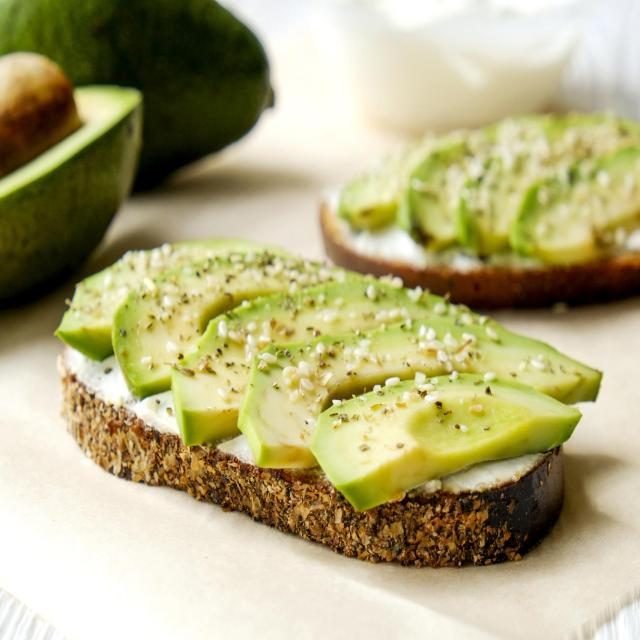aguacate: (63, 238, 609, 520)
